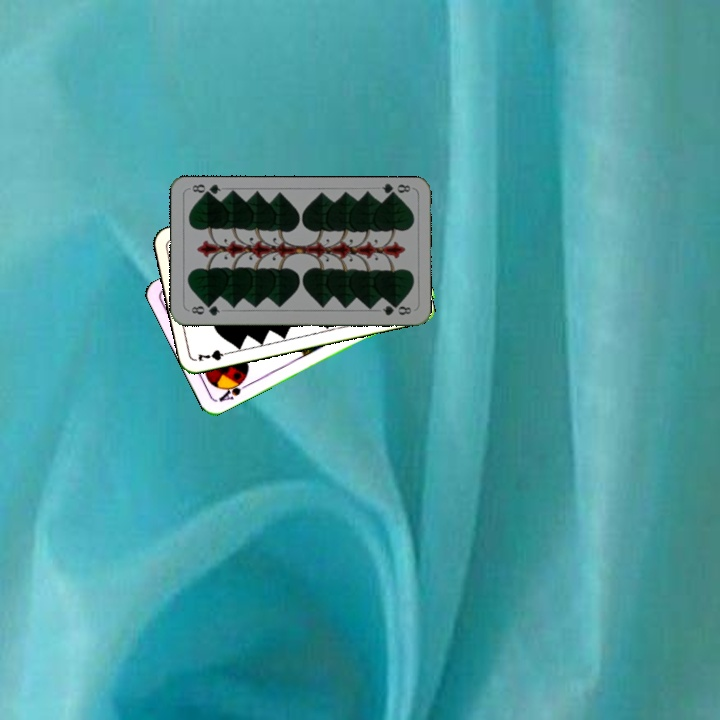G7: (194, 345, 234, 364)
G8: (378, 180, 412, 200), (187, 301, 222, 318)
SA: (215, 374, 252, 405)
